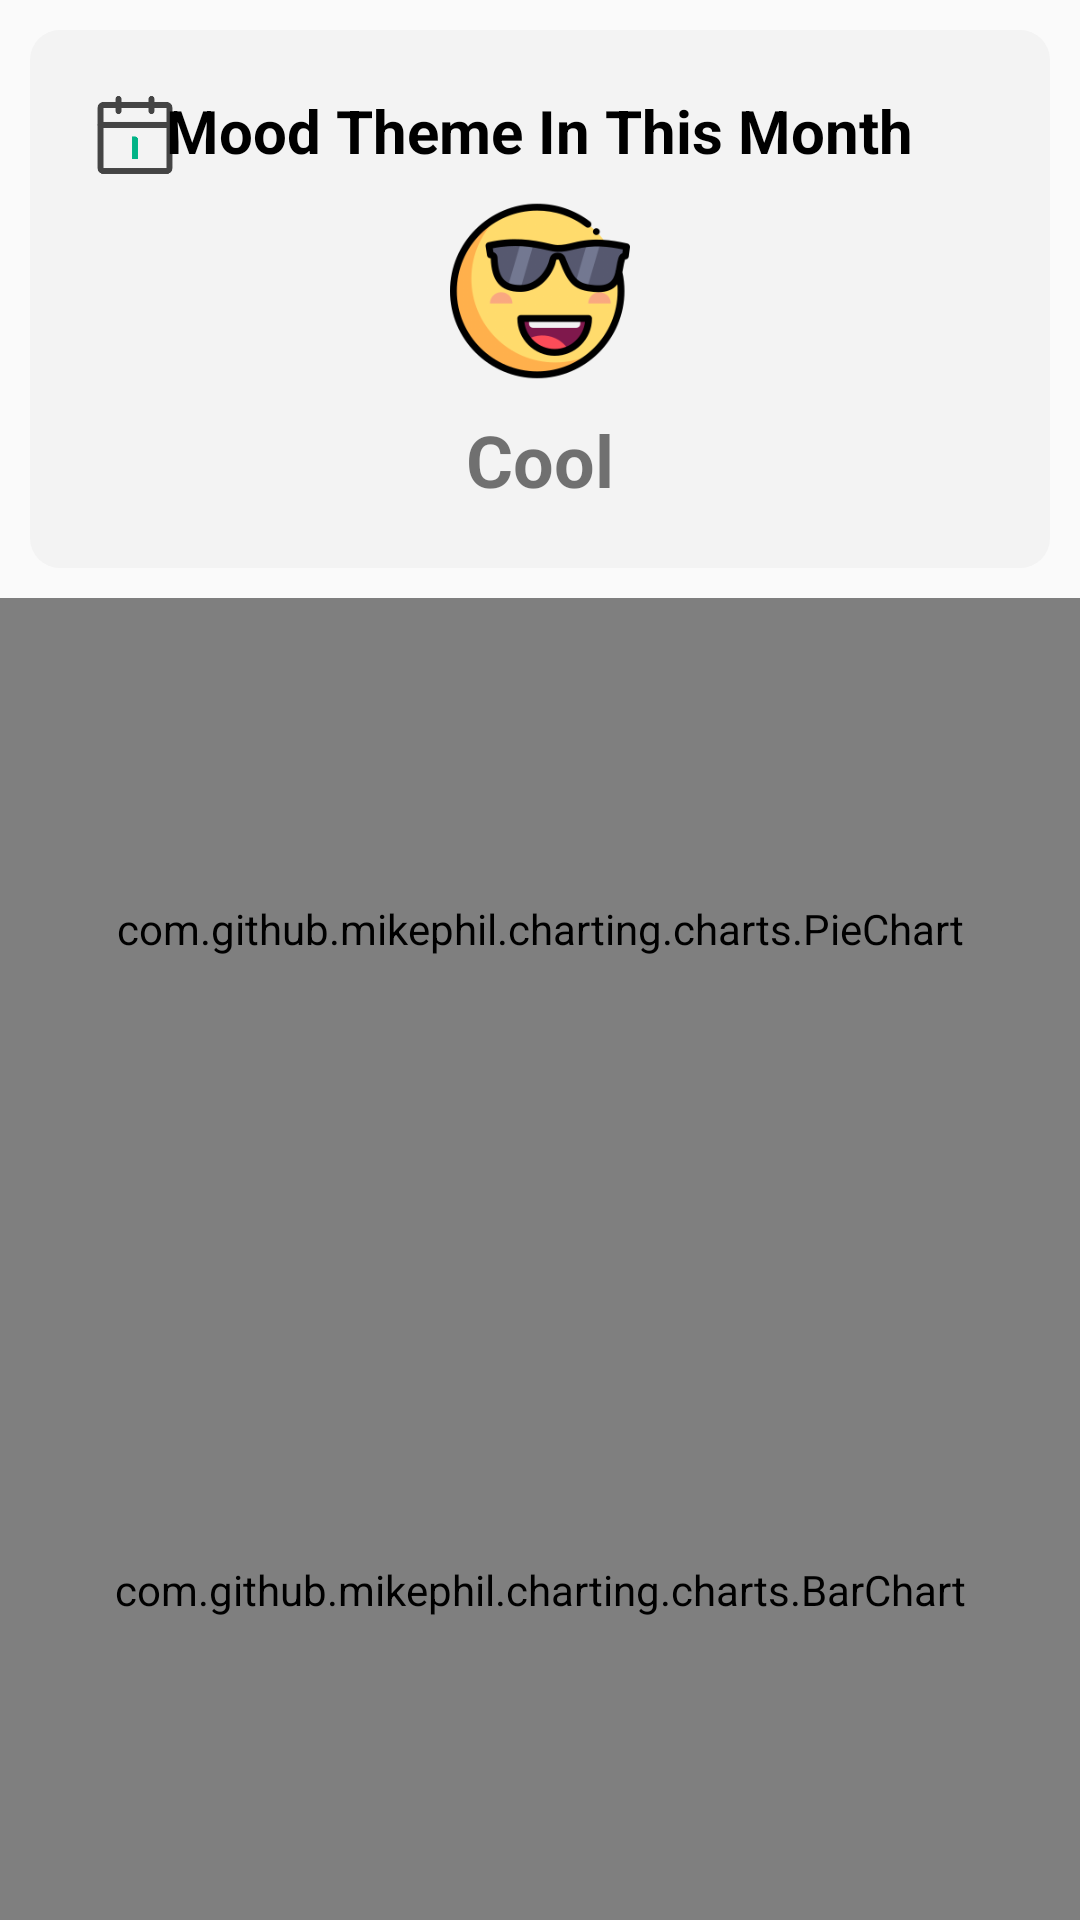

Icon click points for this 1080w x 1920h phone screenshot, format (x,y):
calendar: (138,135)
